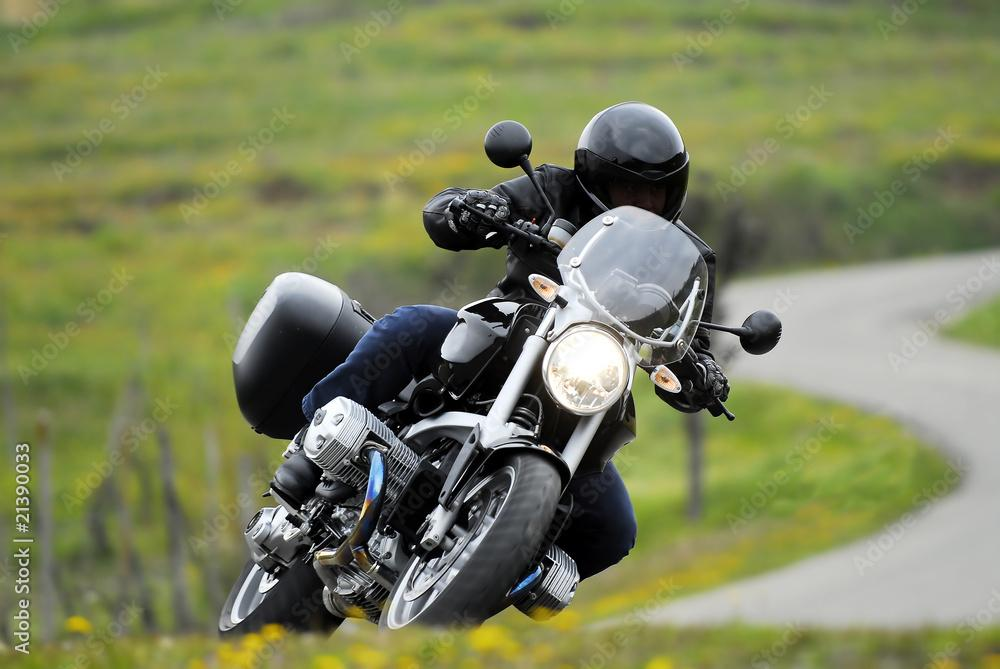helmet: (573, 99, 691, 252)
